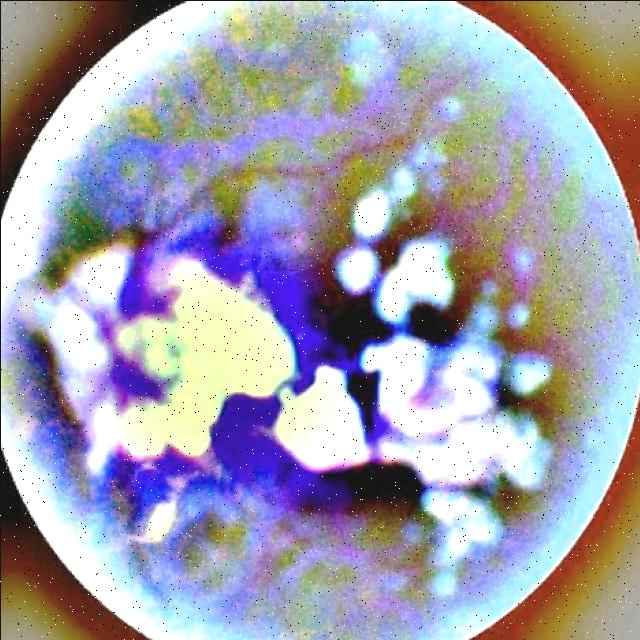Macula: (304, 289, 397, 358)
Nerves: (178, 126, 412, 217)
Optic Disk: (115, 258, 294, 454)
